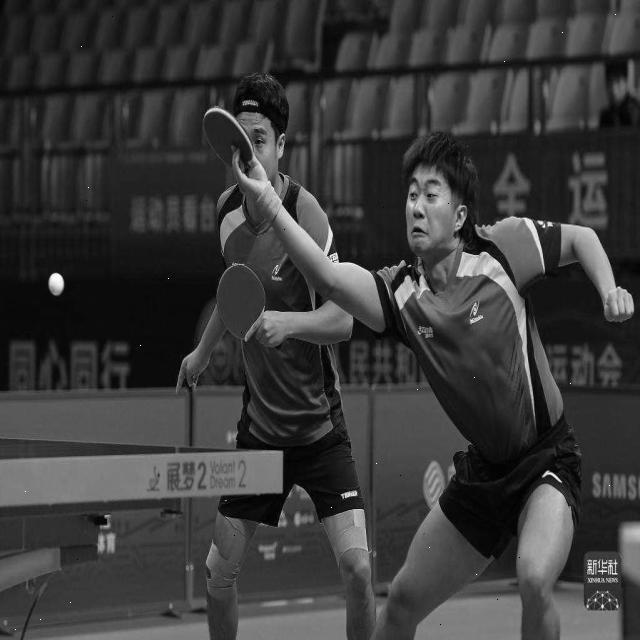ping-pong-ball: (45, 268, 66, 296)
